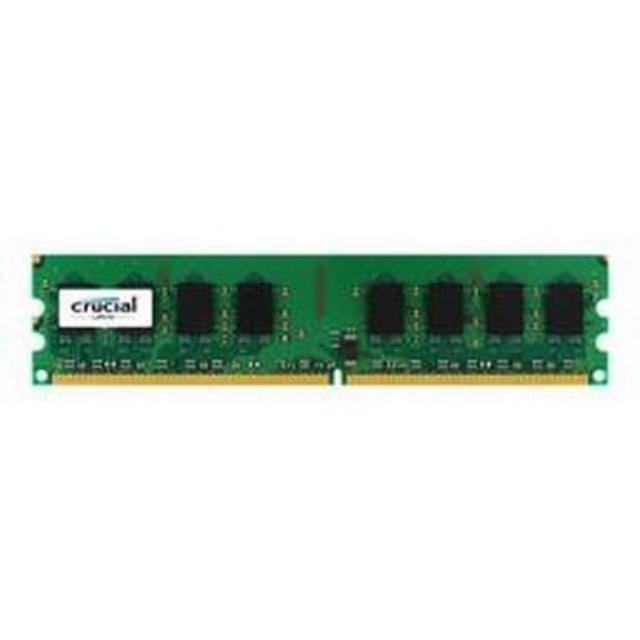RAM: (23, 238, 609, 394)
